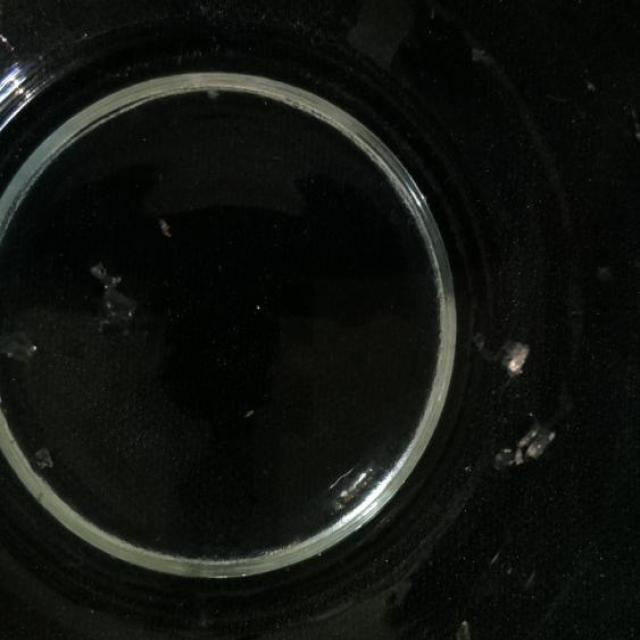fiber: (76, 245, 150, 338), (489, 414, 569, 466), (0, 318, 47, 377), (22, 441, 72, 480), (446, 612, 480, 638)
